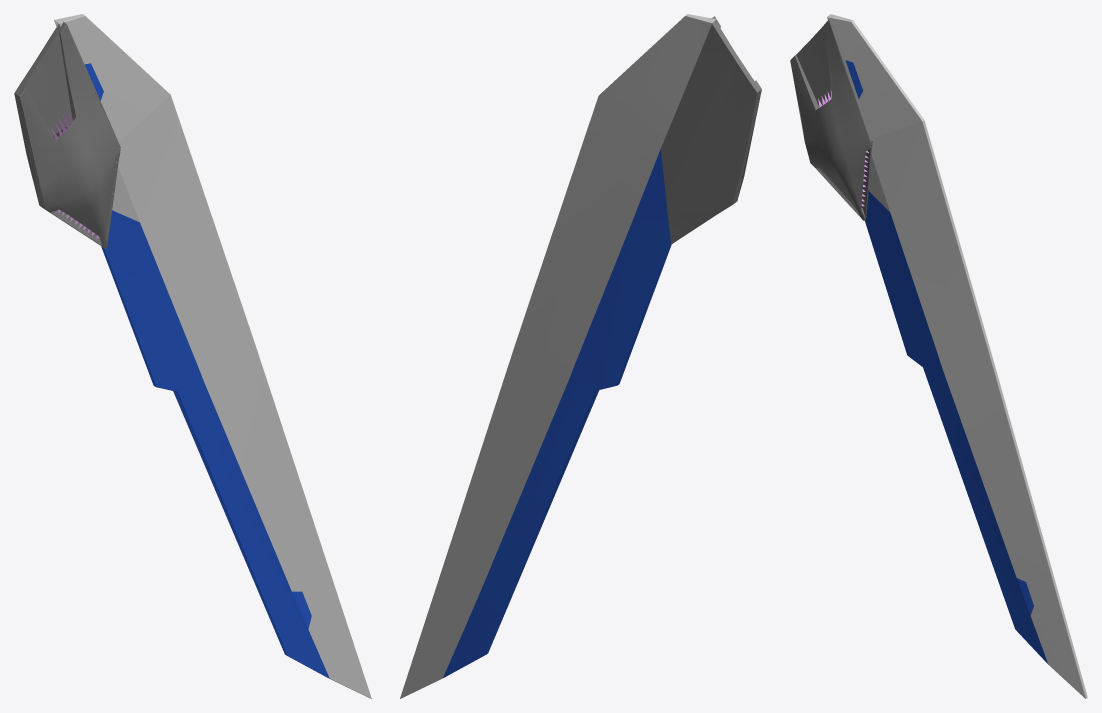
Rendered from rightInsideBigWing.obj.
The picture shows the model from 3 angles, left to right: view 1: azimuth 30°, elevation 25°; view 2: azimuth 150°, elevation 25°; view 3: azimuth 330°, elevation 25°; orthographic projection. The views are drawn at different scales.
Visible parts, largest first — view 1: rightInsideBigWing freedom:ChafCaja06, rightInsideBigWing freedom:ChafCaja1286; view 2: rightInsideBigWing freedom:ChafCaja06, rightInsideBigWing freedom:ChafCaja1286; view 3: rightInsideBigWing freedom:ChafCaja06, rightInsideBigWing freedom:ChafCaja1286.
Boxes of the visible parts, x1,y1,x2,y2 form: rightInsideBigWing freedom:ChafCaja06: [54, 14, 371, 698]; rightInsideBigWing freedom:ChafCaja1286: [14, 20, 120, 248]; rightInsideBigWing freedom:ChafCaja06: [400, 14, 716, 698]; rightInsideBigWing freedom:ChafCaja1286: [660, 16, 761, 245]; rightInsideBigWing freedom:ChafCaja06: [827, 14, 1087, 698]; rightInsideBigWing freedom:ChafCaja1286: [790, 16, 872, 220].
Bounding box in the file's own units: 59.98 × 121 × 4.79.
